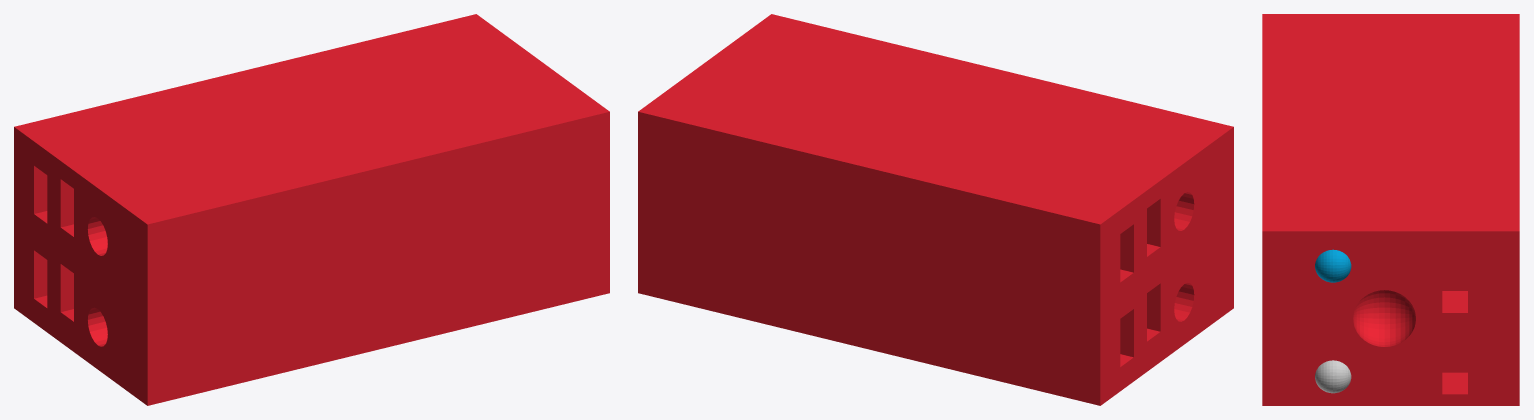
Rendered from Computer.obj.
The picture shows the model from 3 angles, left to right: view 1: azimuth 30°, elevation 25°; view 2: azimuth 150°, elevation 25°; view 3: azimuth 270°, elevation 25°; orthographic projection. The views are drawn at different scales.
Parts seen in each view (by area): view 1: group_0_15277357; view 2: group_0_15277357; view 3: group_0_15277357, group_0_3888547, group_0_40919.
Boxes of the visible parts, x1,y1,x2,y2 form: group_0_15277357: [14, 14, 609, 405]; group_0_15277357: [638, 14, 1233, 405]; group_0_15277357: [1262, 14, 1519, 405]; group_0_3888547: [1315, 360, 1351, 393]; group_0_40919: [1315, 249, 1351, 282].
Bounding box in the file's own units: 41 × 15 × 20.
